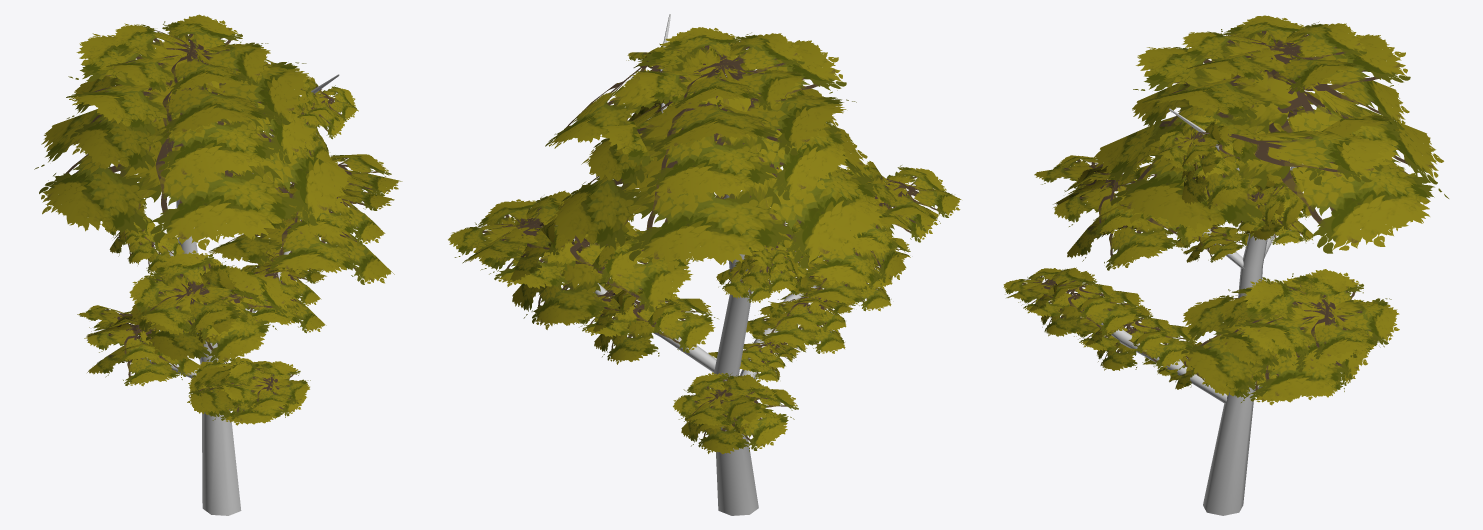
The model's file is arbre.FBX.
3 views of the same model, side by side, from view 1: azimuth 30°, elevation 25°; view 2: azimuth 150°, elevation 25°; view 3: azimuth 270°, elevation 25° (orthographic). The views are drawn at different scales.
Visible parts, largest first — view 1: arbre; view 2: arbre; view 3: arbre.
Part boxes in pixels (left/top/right/bottom): arbre: left=34, top=14, right=402, bottom=515; arbre: left=448, top=14, right=961, bottom=515; arbre: left=1003, top=15, right=1448, bottom=515.
Size of the model in its own units: 153 by 174 by 162.
